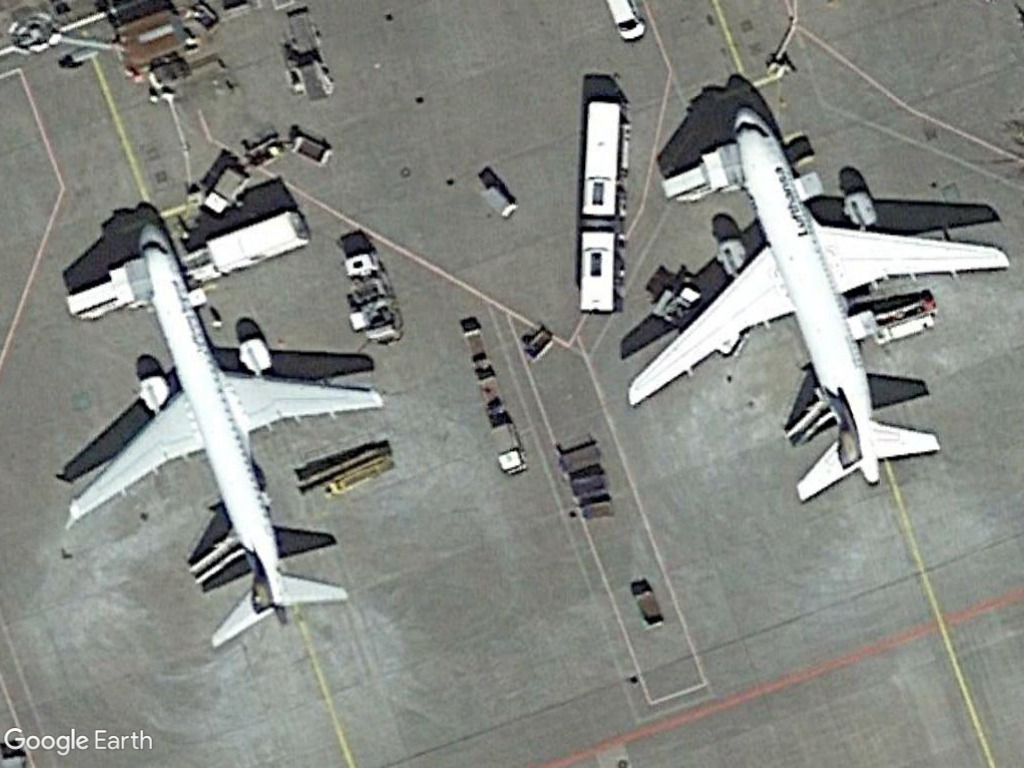airliner: (619, 100, 1014, 512), (55, 217, 387, 650)
bus: (579, 94, 631, 222), (574, 225, 626, 317)
truck: (181, 207, 312, 283)
